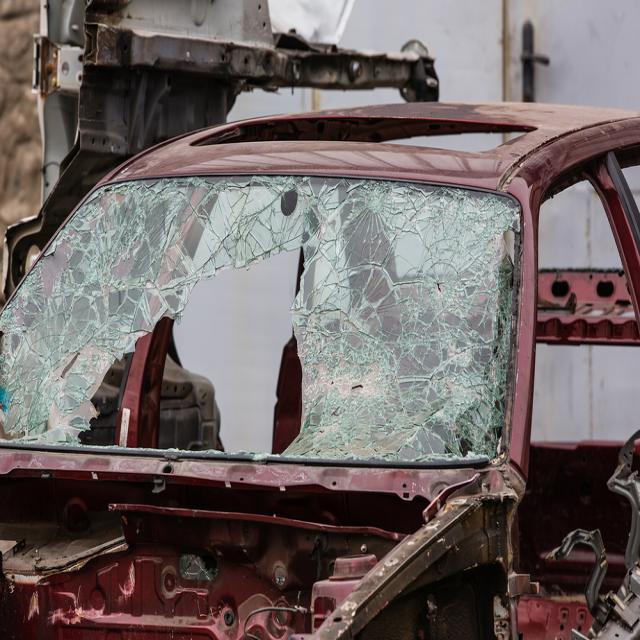glass shatter: (0, 176, 523, 461)
